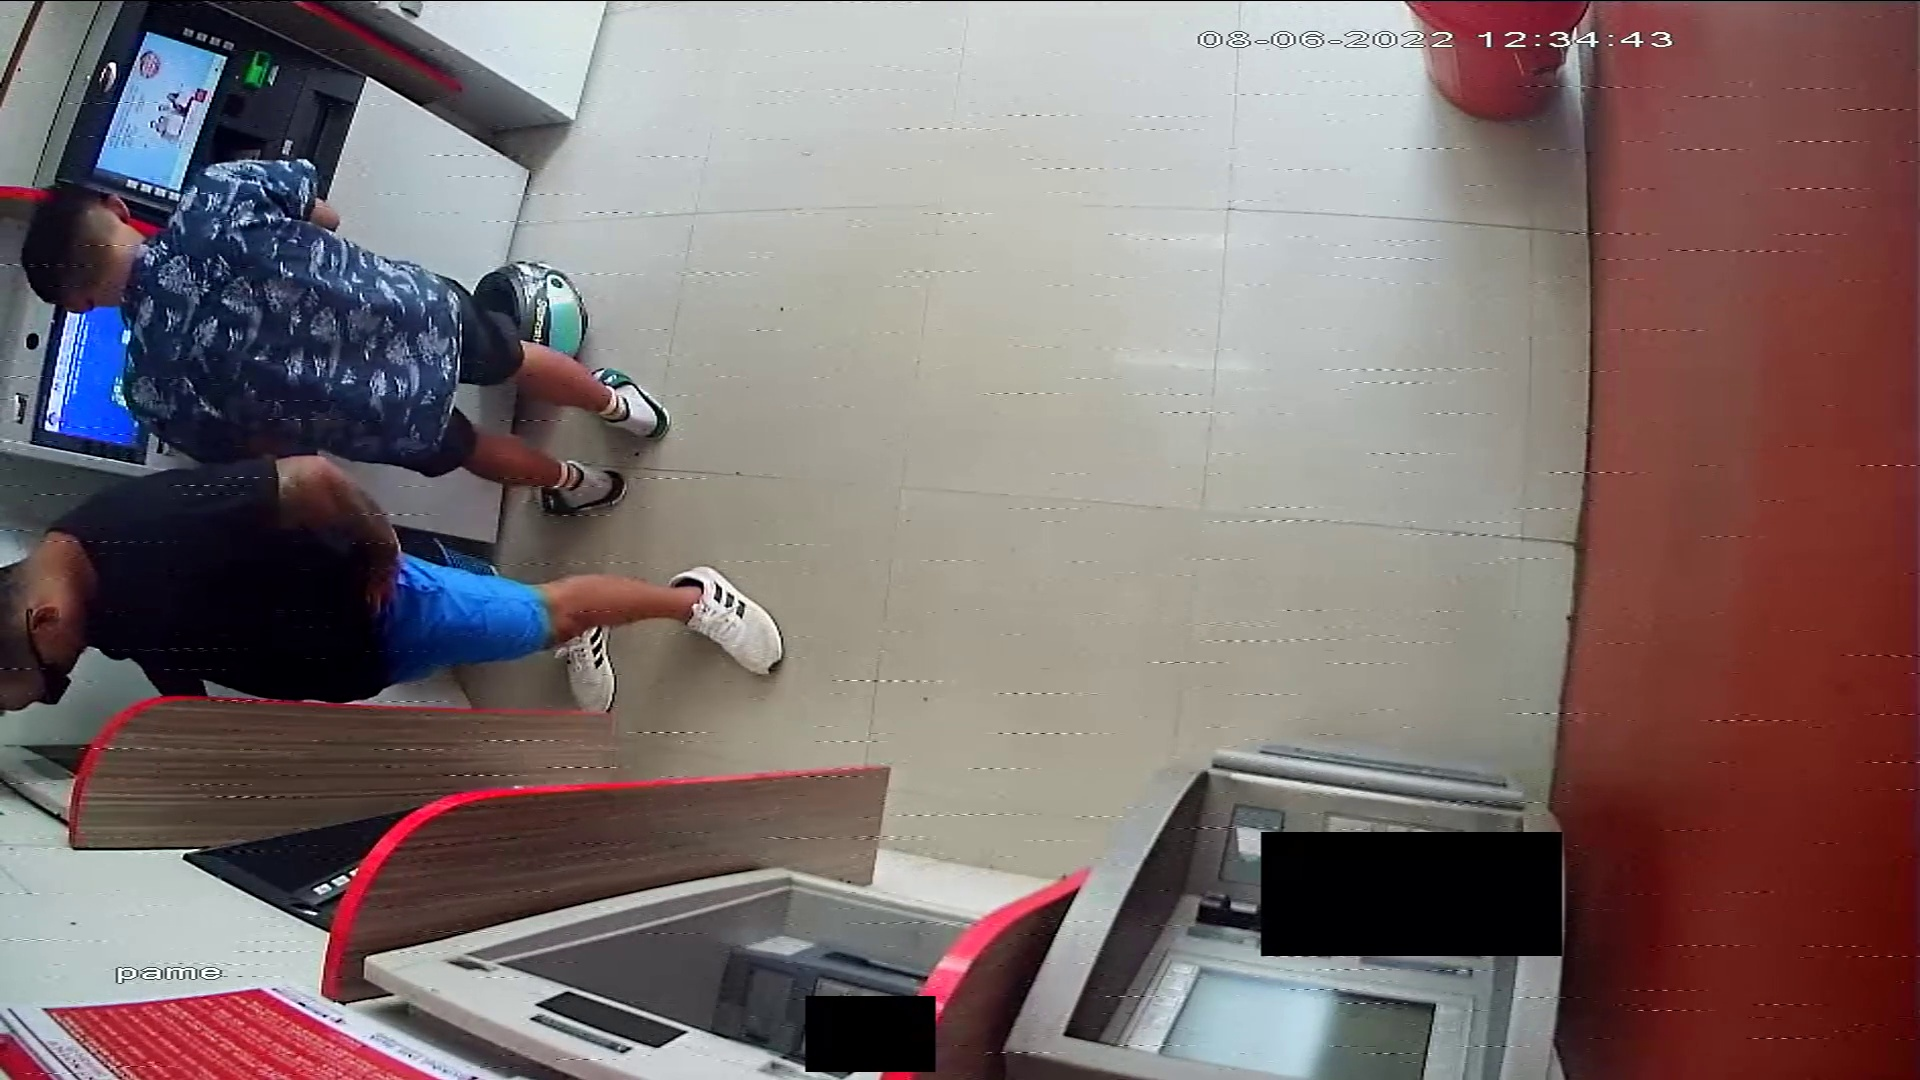helmet: (471, 260, 589, 354)
person: (19, 166, 673, 522), (1, 456, 783, 718)
